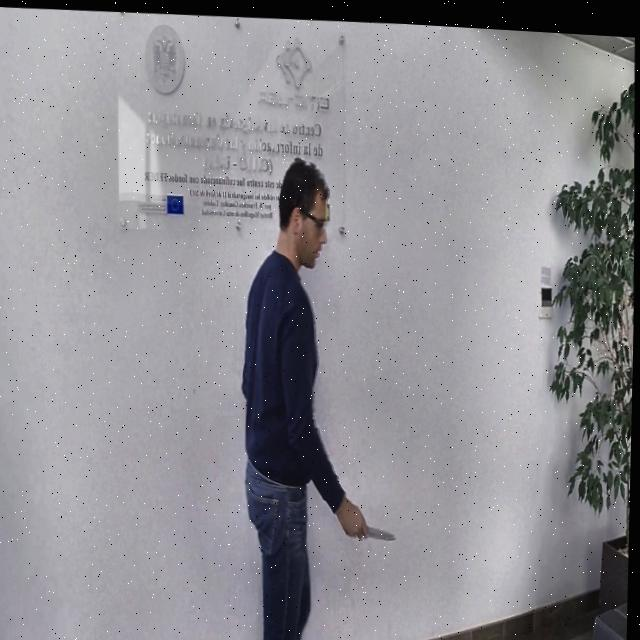knife: (365, 515, 401, 544)
